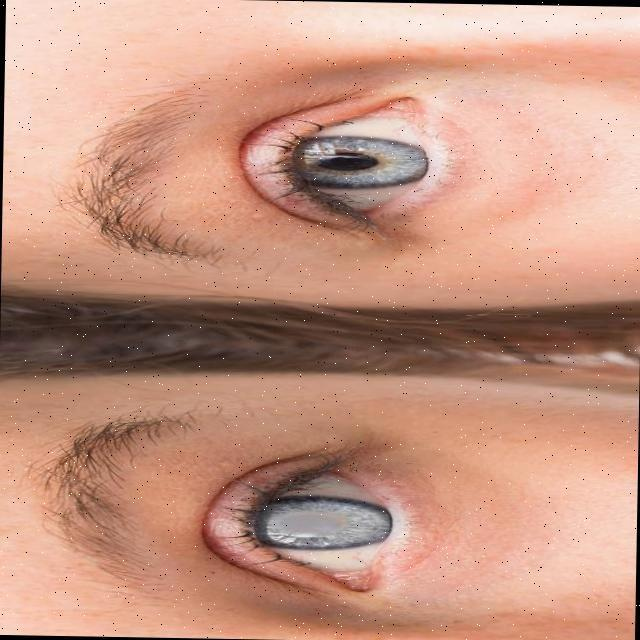Cataract: (208, 482, 410, 570)
